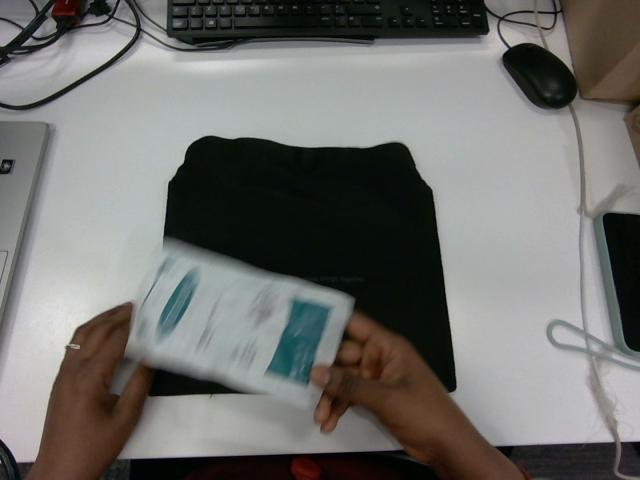gallipot: (126, 238, 353, 407)
